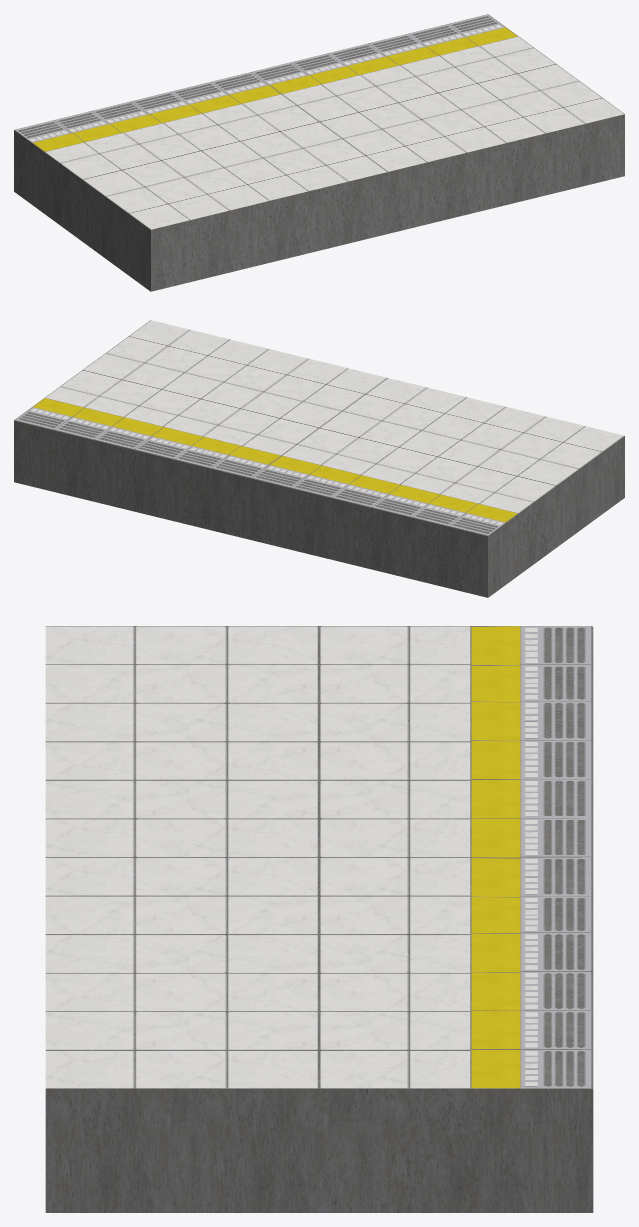
Rendered from FloorPlatform_2.fbx.
3 renders of one model, top to bottom at view 1: azimuth 30°, elevation 25°; view 2: azimuth 150°, elevation 25°; view 3: azimuth 270°, elevation 25°, orthographic. The views are drawn at different scales.
Parts seen in each view (by area): view 1: FloorPlatform_2; view 2: FloorPlatform_2; view 3: FloorPlatform_2.
Part boxes in pixels (x1,y1,x2,y2): FloorPlatform_2: (14,14,624,291); FloorPlatform_2: (14,320,624,597); FloorPlatform_2: (45,626,593,1212).
Size of the model in its own units: 8 by 1 by 4.
